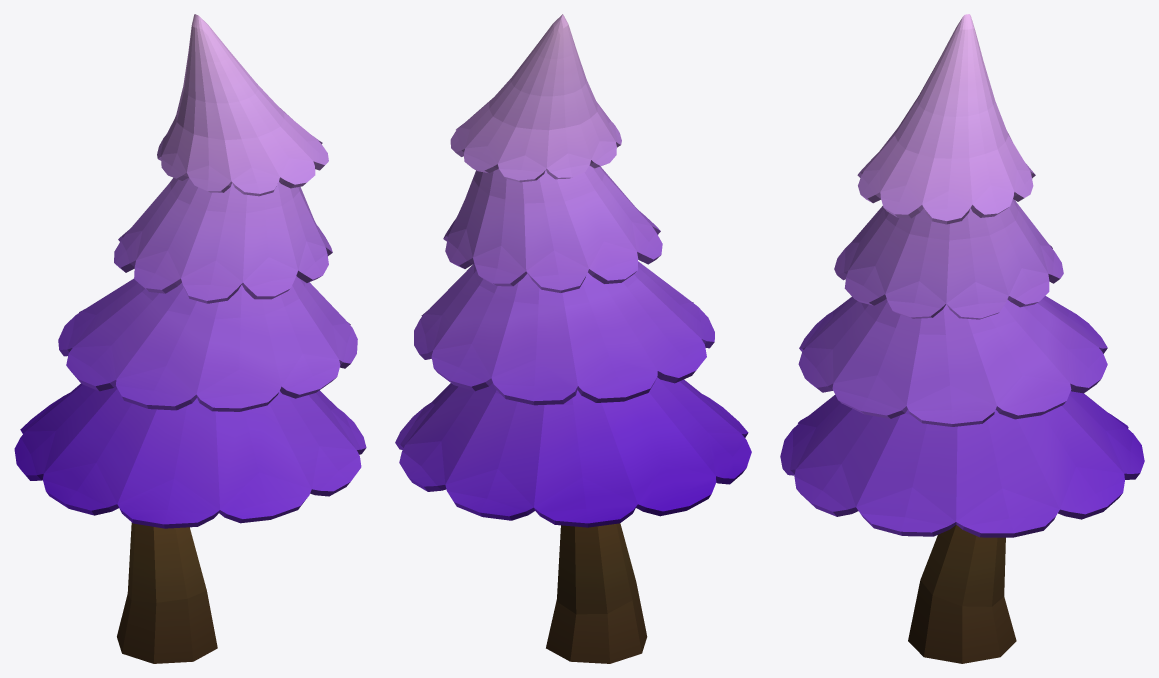
Rendered from arbol morado.fbx.
The picture shows the model from 3 angles, left to right: view 1: azimuth 30°, elevation 25°; view 2: azimuth 150°, elevation 25°; view 3: azimuth 270°, elevation 25°; orthographic projection. The views are drawn at different scales.
Parts seen in each view (by area): view 1: arbol.002; view 2: arbol.002; view 3: arbol.002.
Part boxes in pixels (x1,y1,x2,y2): arbol.002: (14,14,366,663); arbol.002: (395,14,751,663); arbol.002: (780,14,1144,663).
Bounding box in the file's own units: 901 × 1755 × 902.
Materials: 1 (1 with a texture image).
